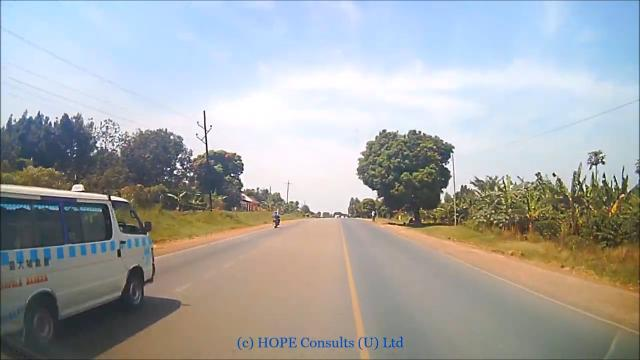motorcycle: (272, 210, 280, 231)
van: (0, 176, 158, 328)
